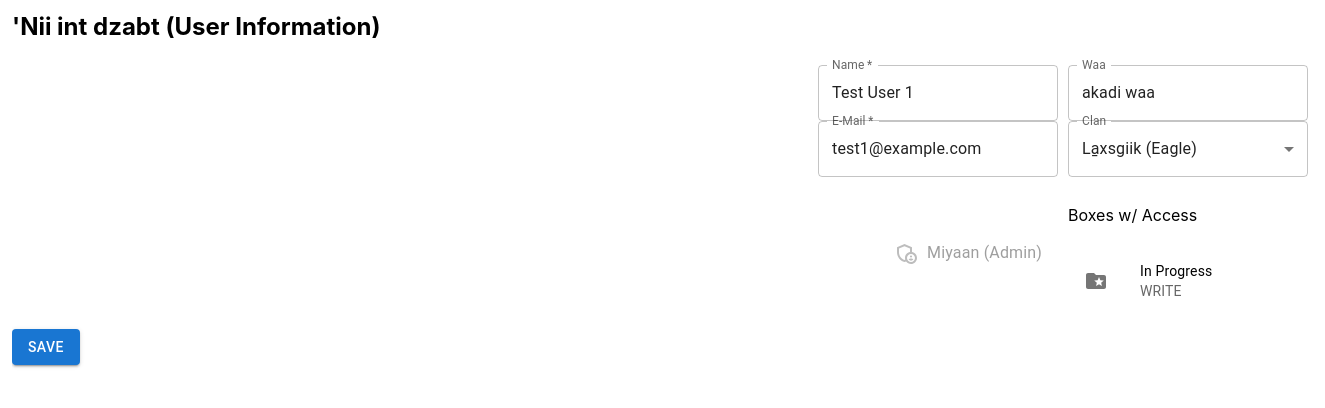
UserForm › E-mail validation works
The image size is (1325, 408).
Replace the text in the field labelled "E-Mail *" with "not_a_valid_email": (938, 149) top-left (818, 121), bottom-right (1058, 177)
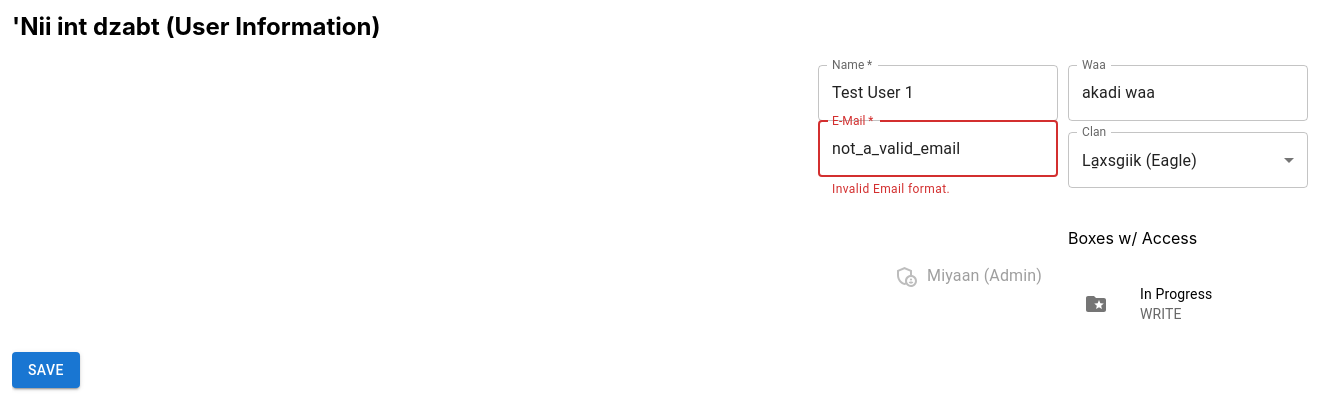
Check: the text "Invalid Email format." is shown, box top-left (832, 182), bottom-right (950, 196)
// test that, fixing it clears the error state
Replace the text in the field labelled "E-Mail *" with "new-valid-email@example.com": (938, 149) top-left (818, 121), bottom-right (1058, 177)
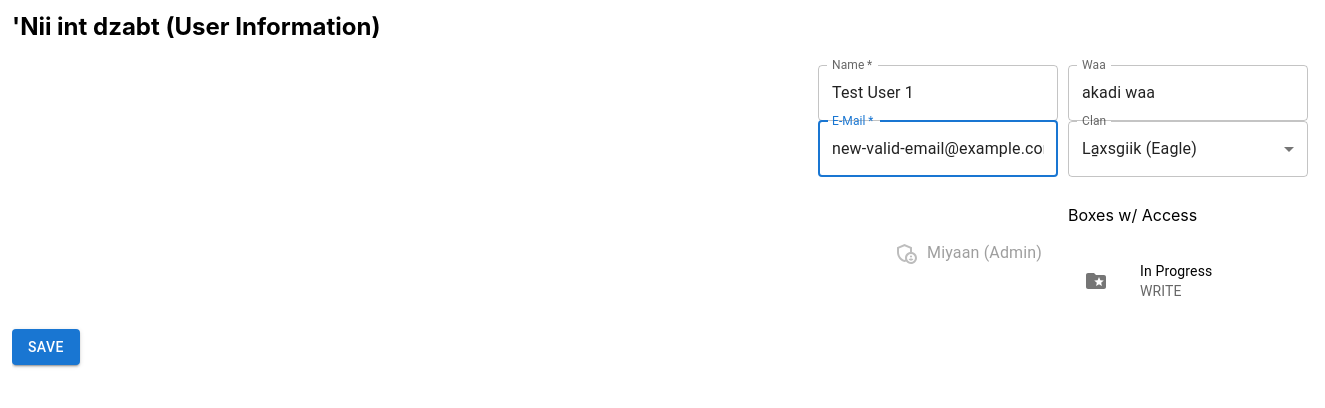
Check: the text "Invalid" is gone
